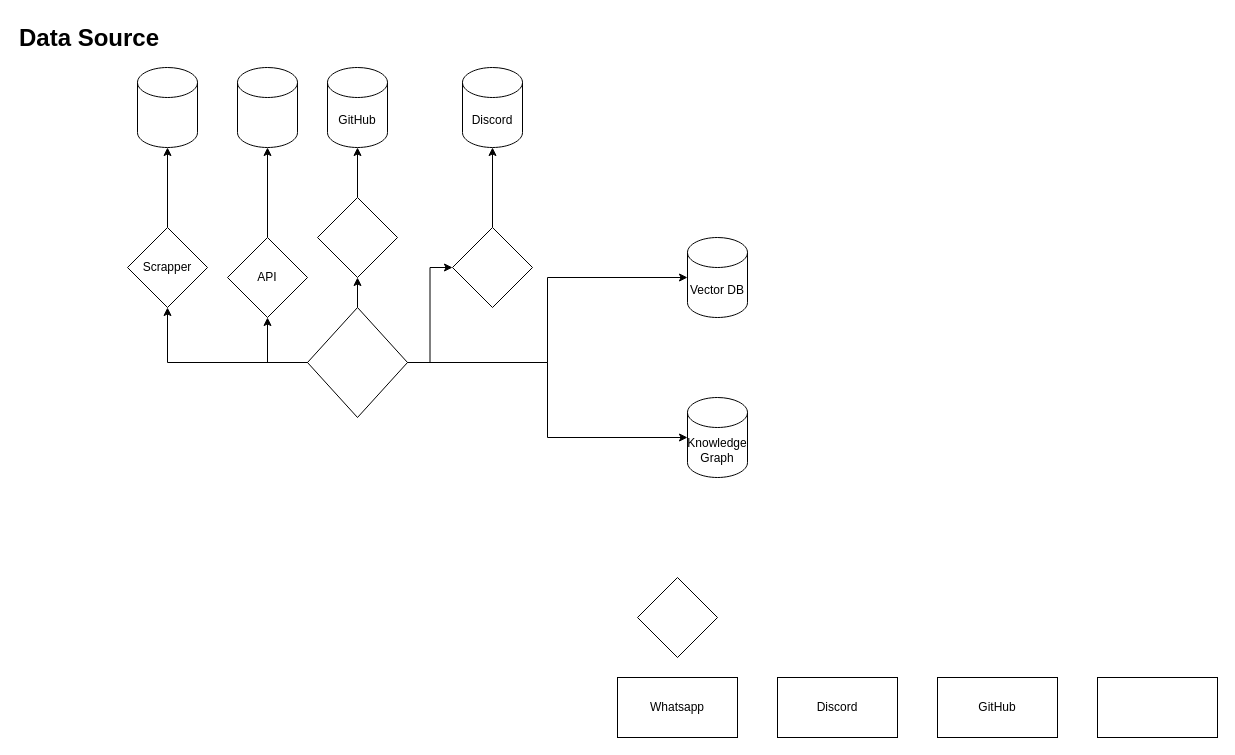
Some shapes in this 1235 by 755 pixel diagram are drawn without their labels. Here are the shapes that lost their labels. From the top down, the centre of each, then its label:
At (167,107): "Wiki".
At (267,107): "Portal".
At (357,237): "GitHub App".
At (492,267): "Discord Bot".
At (357,362): "Summarizer Agent".
